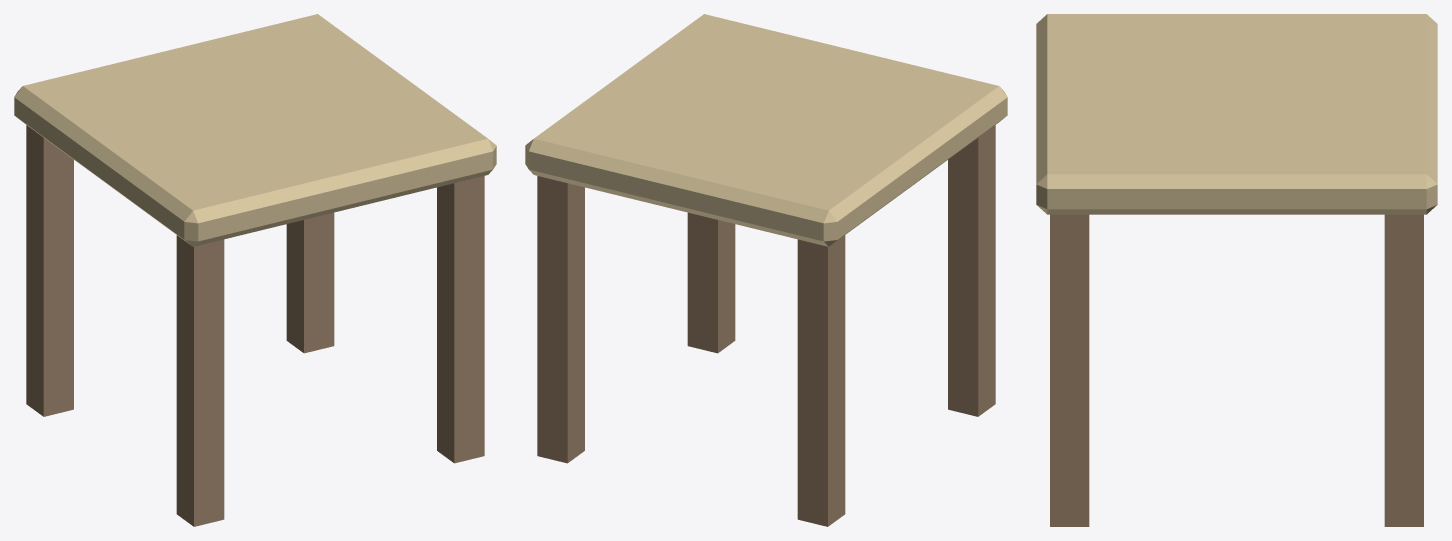
File: iskemle.glb
The picture shows the model from 3 angles, left to right: view 1: azimuth 30°, elevation 25°; view 2: azimuth 150°, elevation 25°; view 3: azimuth 270°, elevation 25°; orthographic projection. The views are drawn at different scales.
Parts seen in each view (by area): view 1: iskemle; view 2: iskemle; view 3: iskemle.
Part boxes in pixels (x1,y1,x2,y2): iskemle: (14,14,496,526); iskemle: (525,14,1007,526); iskemle: (1036,14,1437,526).
Size of the model in its own units: 0.36 by 0.35 by 0.36.
